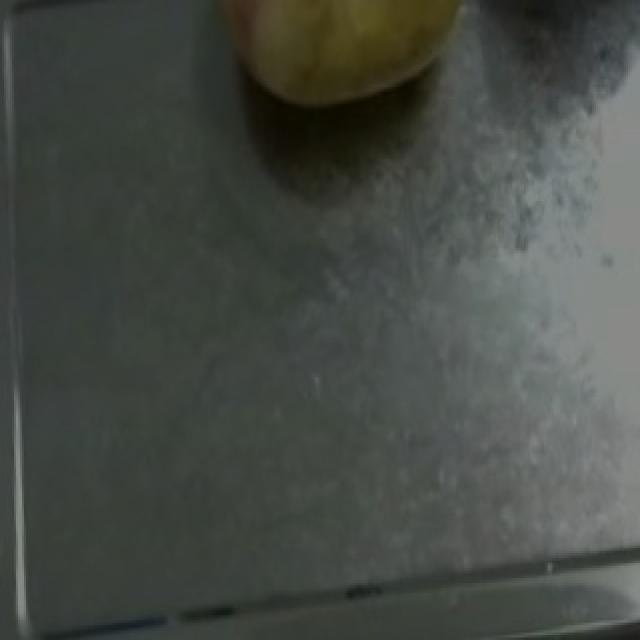Fruit: (190, 0, 492, 124)
